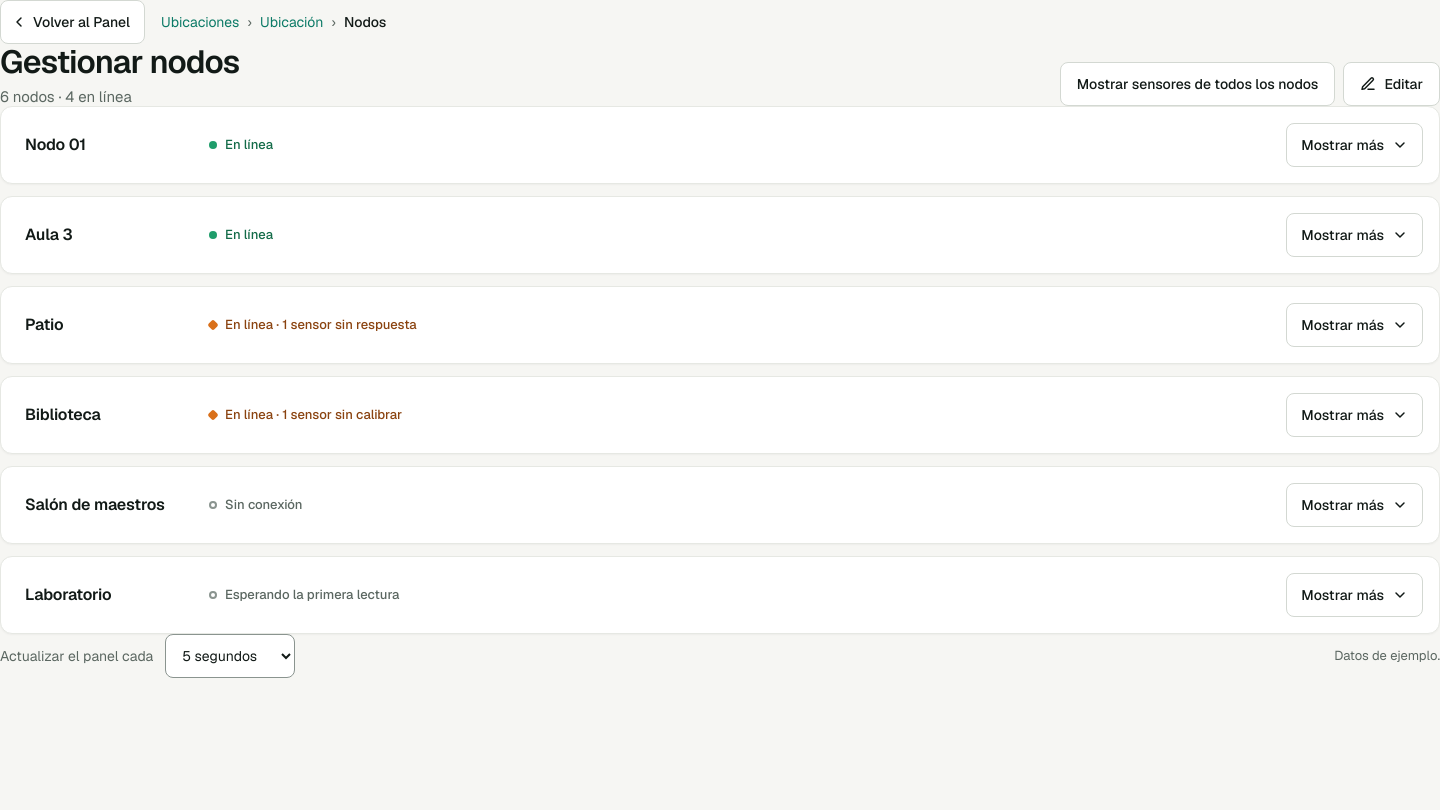
Scenario: Nodos › muestra el error 404 del backend y conserva los datos para corregirlos
Expected: the text "Patio" is shown, [25,314,63,335]
Click the button "Editar" at (1392,84), box [1343,62,1439,106]
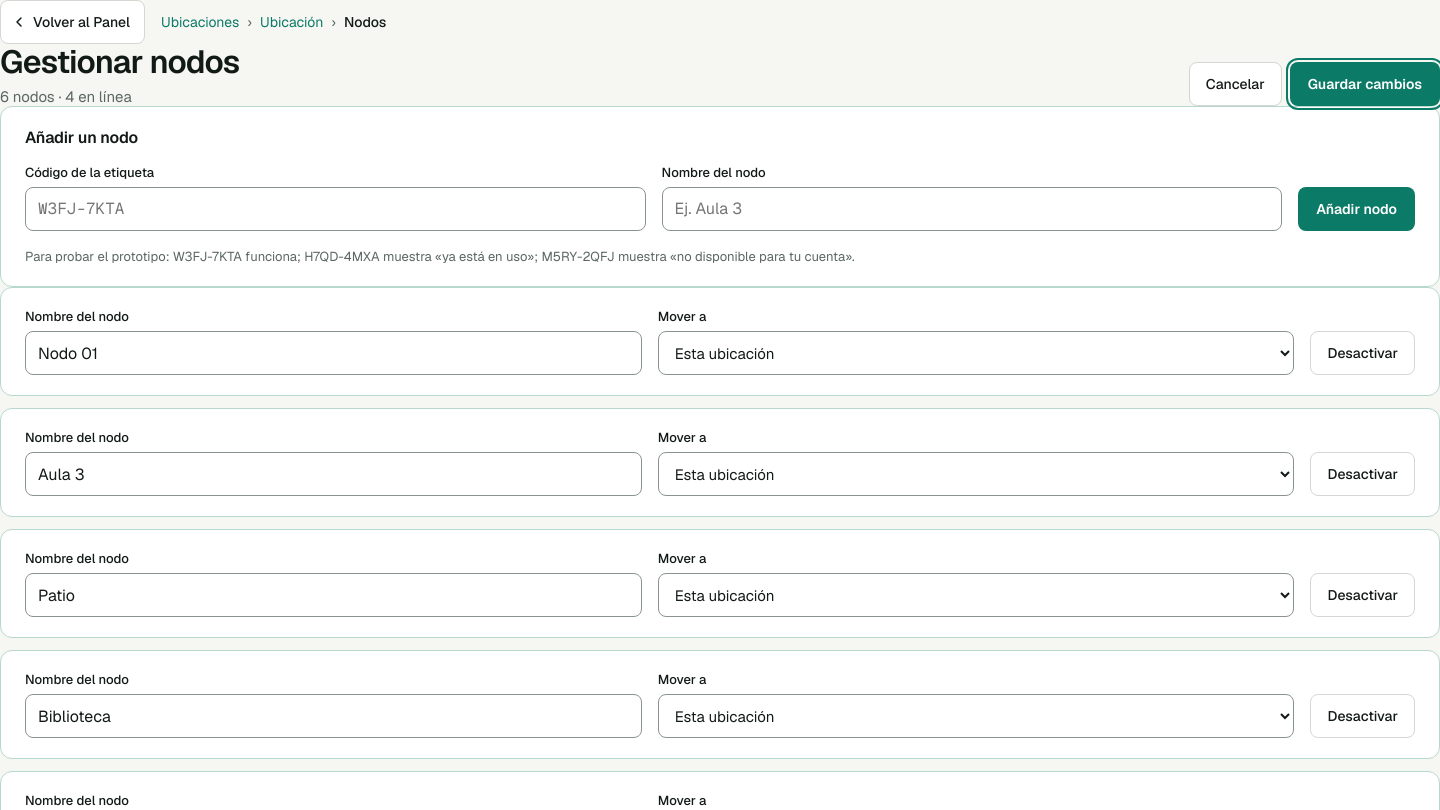
Type "w3fj7kta" into the field labelled "Código de la etiqueta" at (335,209), box [25,187,646,231]
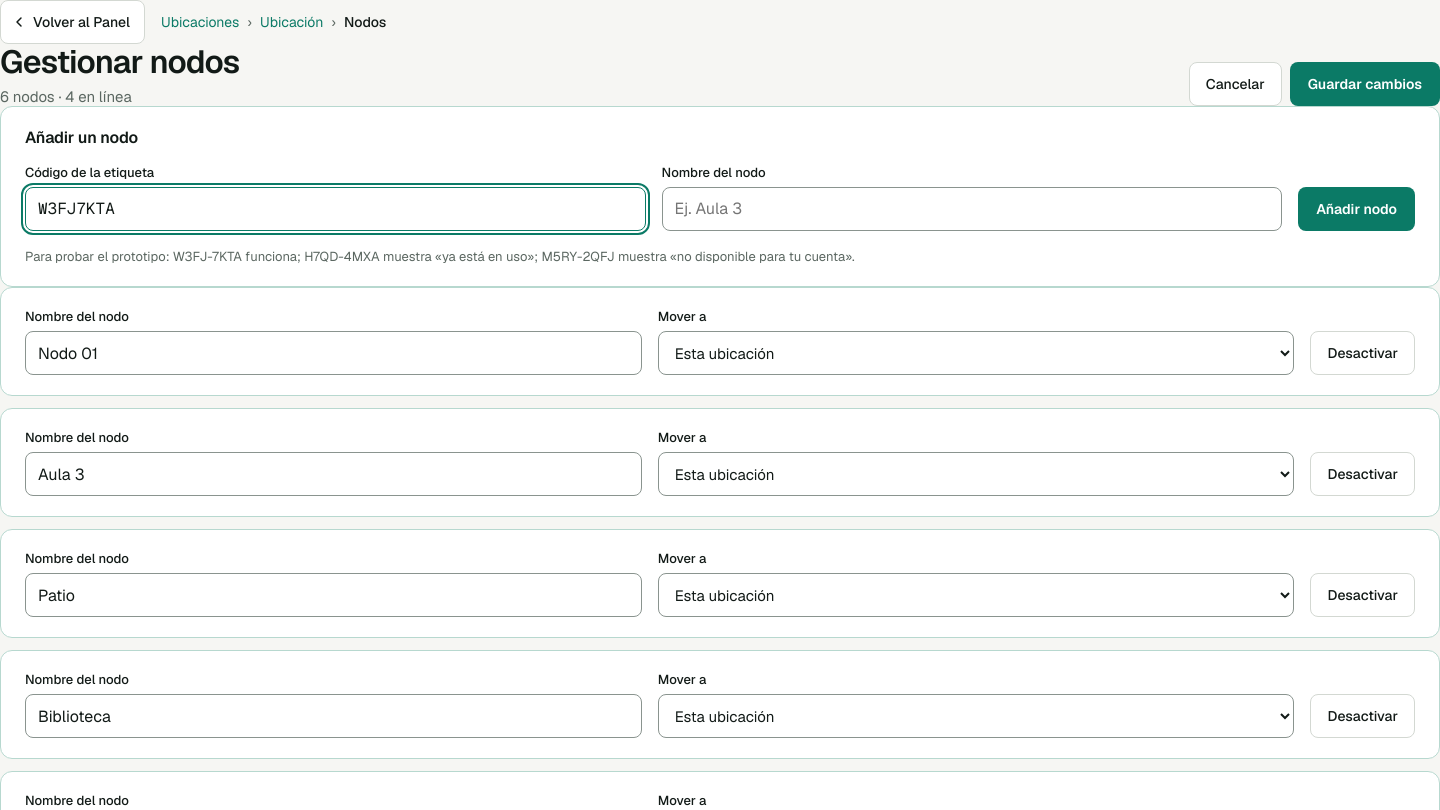
Type "Mi nodo" into the 1st field labelled "Nombre del nodo" at (972,209), box [662,187,1282,231]
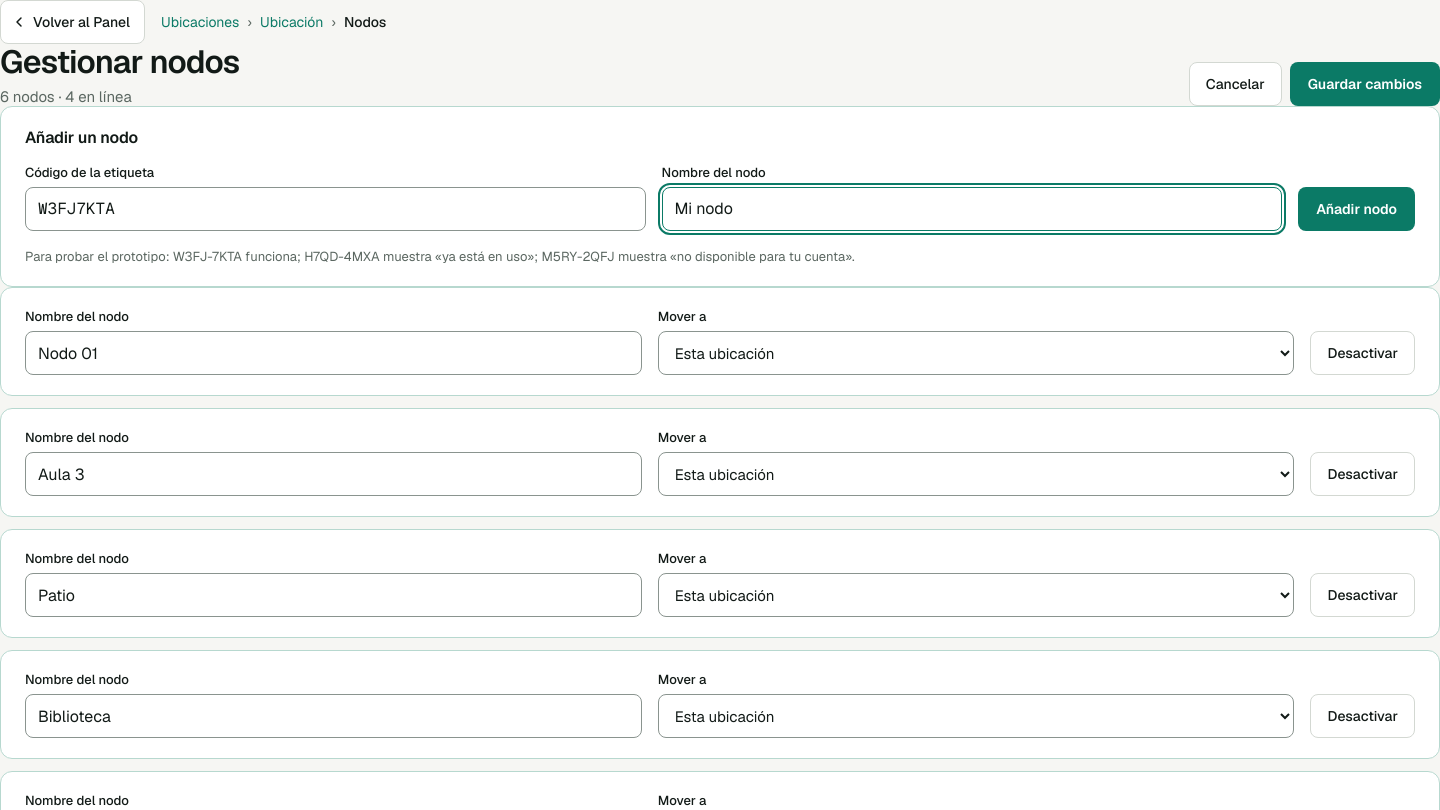
Click the button "Añadir nodo" at (1357,209), box [1298,187,1415,231]
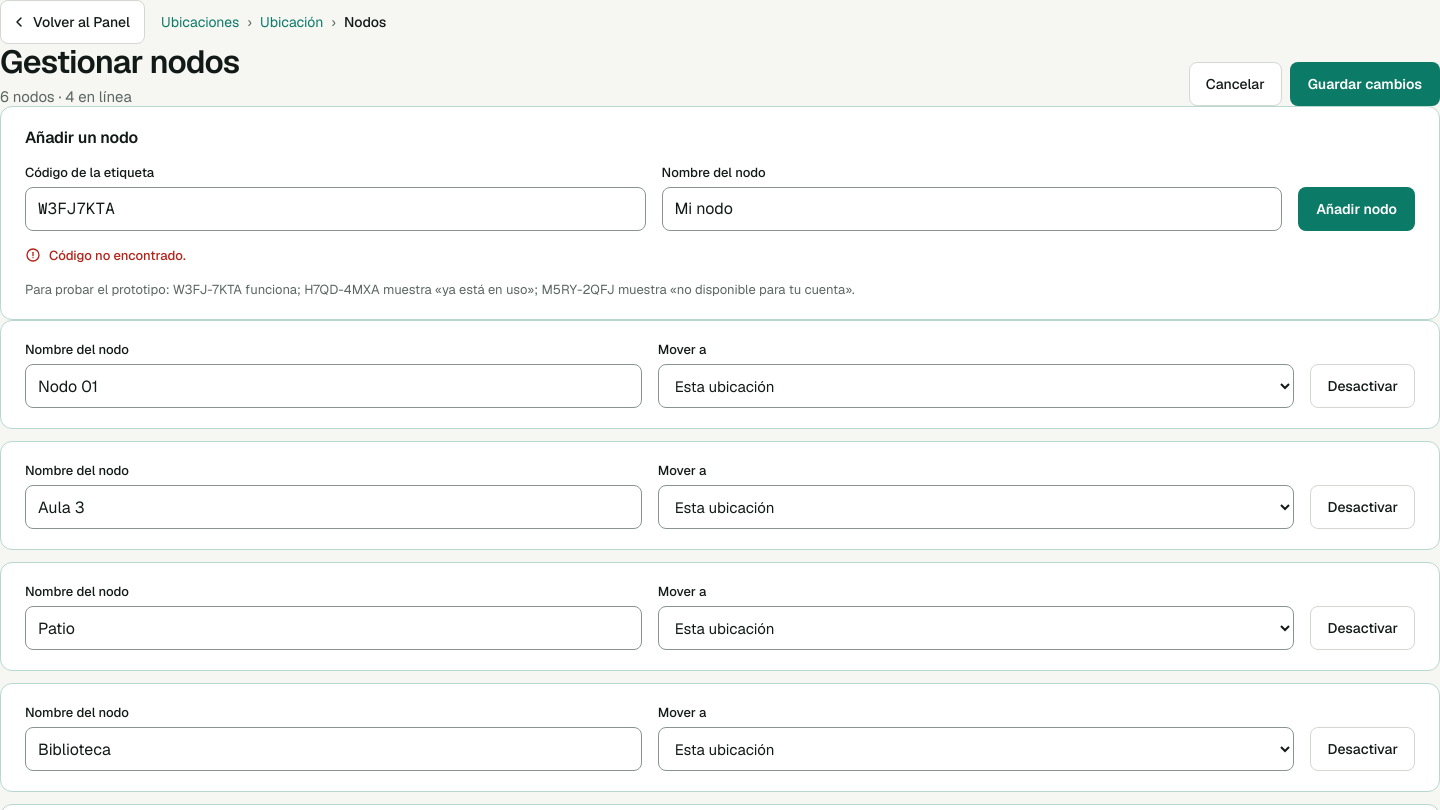
Expected: the button "Añadir nodo" is enabled, [1298,187,1415,231]
Expected: the message reads "Código no encontrado.", [49,247,186,264]
